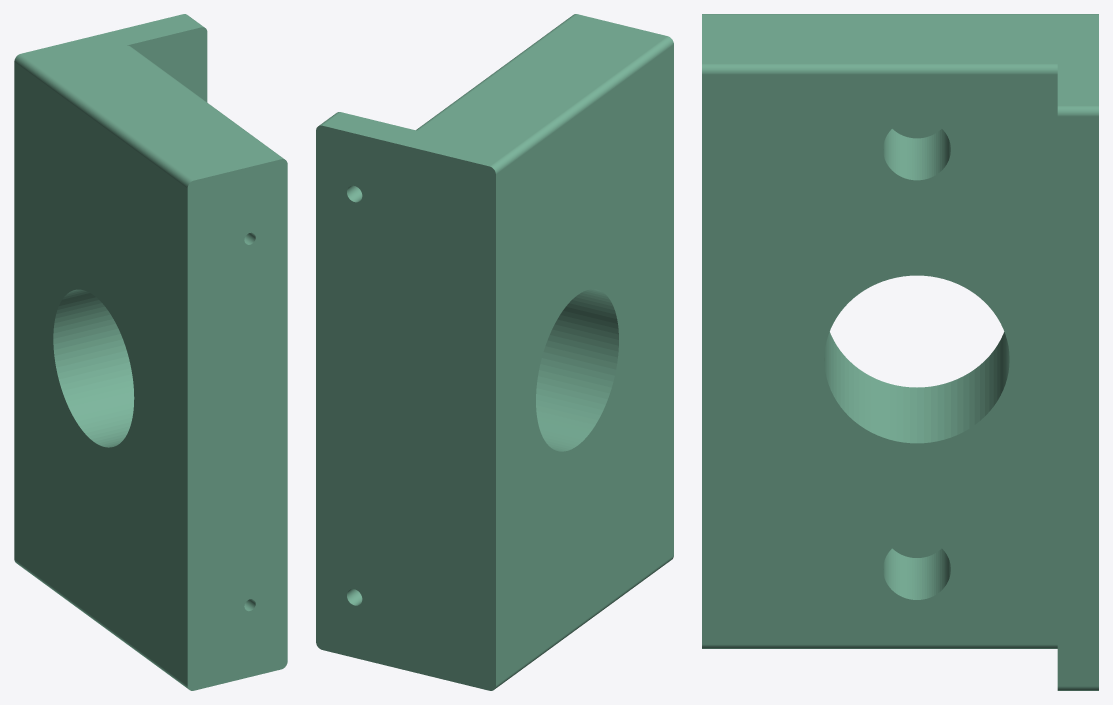
3 views of the same model, side by side, from view 1: azimuth 30°, elevation 25°; view 2: azimuth 150°, elevation 25°; view 3: azimuth 270°, elevation 25° (orthographic). The views are drawn at different scales.
Parts seen in each view (by area): view 1: W09_linear_motor_end_block; view 2: W09_linear_motor_end_block; view 3: W09_linear_motor_end_block.
Boxes of the visible parts, <box> form: W09_linear_motor_end_block: <box>14,14,287,690</box>; W09_linear_motor_end_block: <box>316,14,673,690</box>; W09_linear_motor_end_block: <box>702,14,1098,690</box>.
Bounding box in the file's own units: 28 × 78 × 48.
